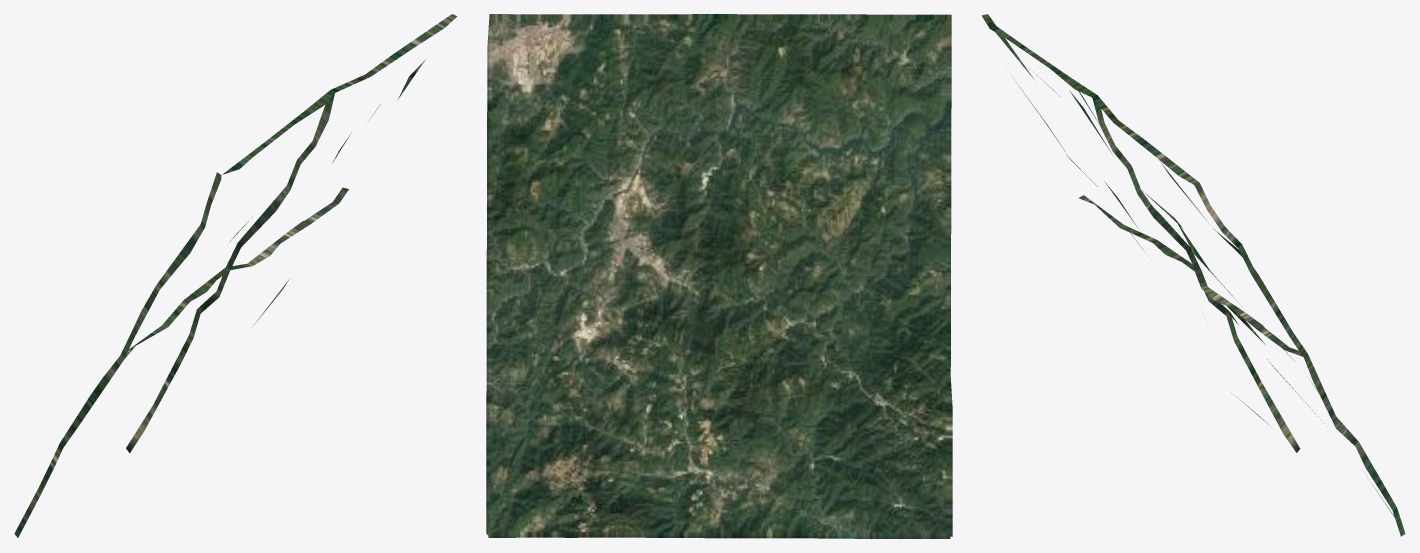
The picture shows the model from 3 angles, left to right: view 1: azimuth 30°, elevation 25°; view 2: azimuth 150°, elevation 25°; view 3: azimuth 270°, elevation 25°; orthographic projection. The views are drawn at different scales.
Size of the model in its own units: 39720 by 35293 by 33151.
Materials: 1 (1 with a texture image).
